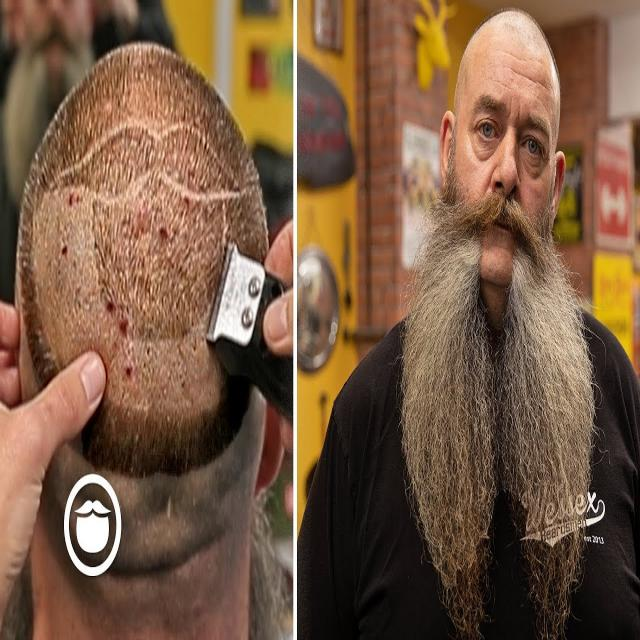beard: (402, 194, 596, 638)
